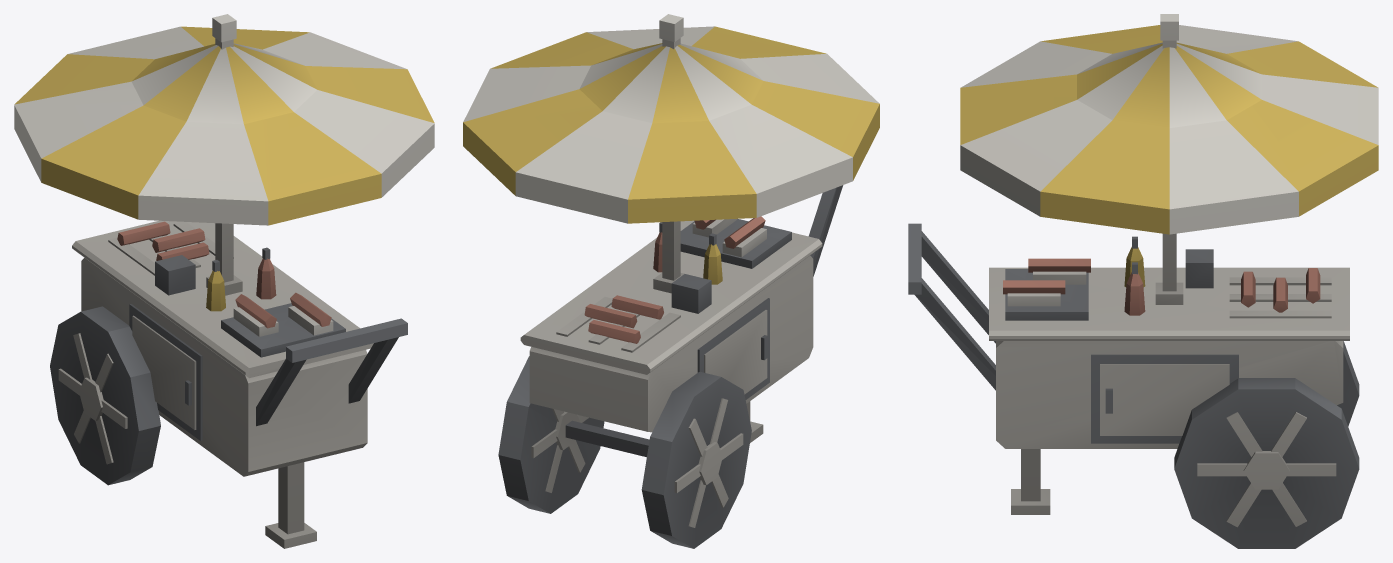
The model's file is hotdog.glb.
3 renders of one model, left to right at view 1: azimuth 30°, elevation 25°; view 2: azimuth 150°, elevation 25°; view 3: azimuth 270°, elevation 25°, orthographic. The views are drawn at different scales.
Parts seen in each view (by area): view 1: hotdog; view 2: hotdog; view 3: hotdog.
Part boxes in pixels (left/top/right/bottom): hotdog: left=14, top=14, right=434, bottom=548; hotdog: left=463, top=14, right=879, bottom=548; hotdog: left=908, top=14, right=1378, bottom=548.
Bounding box in the file's own units: 1.9 × 2.33 × 2.03.
